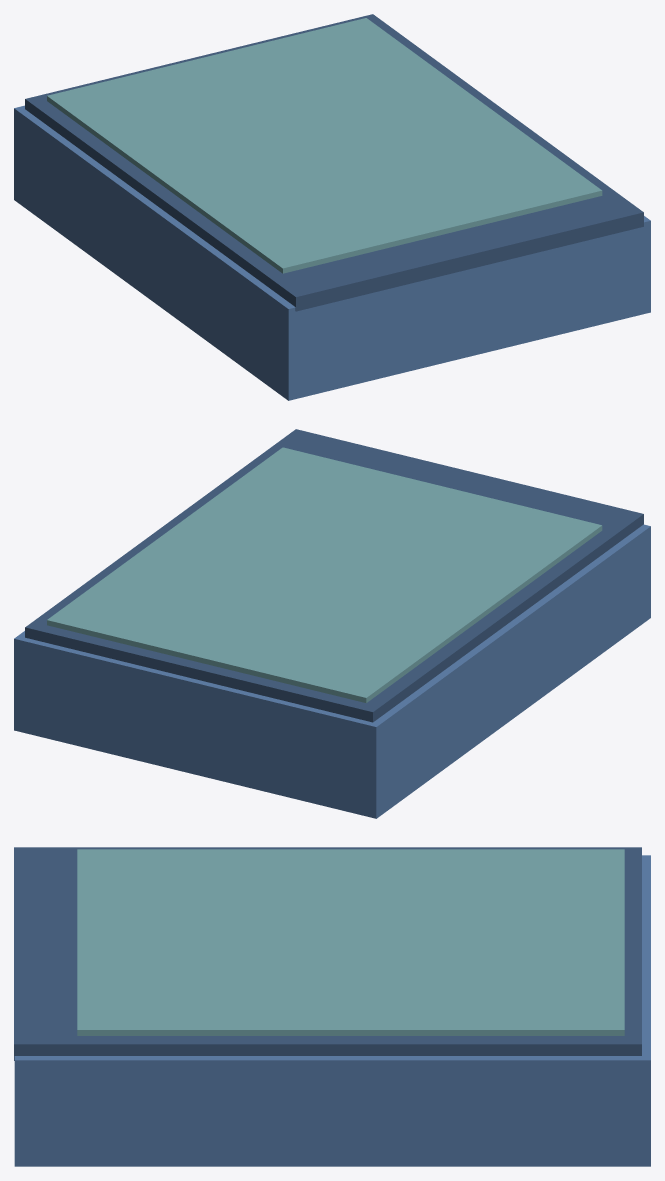
File: table.FBX
3 views of the same model, one above another, from view 1: azimuth 30°, elevation 25°; view 2: azimuth 150°, elevation 25°; view 3: azimuth 270°, elevation 25° (orthographic). The views are drawn at different scales.
Parts seen in each view (by area): view 1: table; view 2: table; view 3: table.
Boxes of the visible parts, box(x1,y1,x2,y2) form: table: box(14, 14, 650, 400); table: box(14, 429, 650, 818); table: box(14, 847, 650, 1166).
Bounding box in the file's own units: 1.58 × 0.4476 × 2.08.
